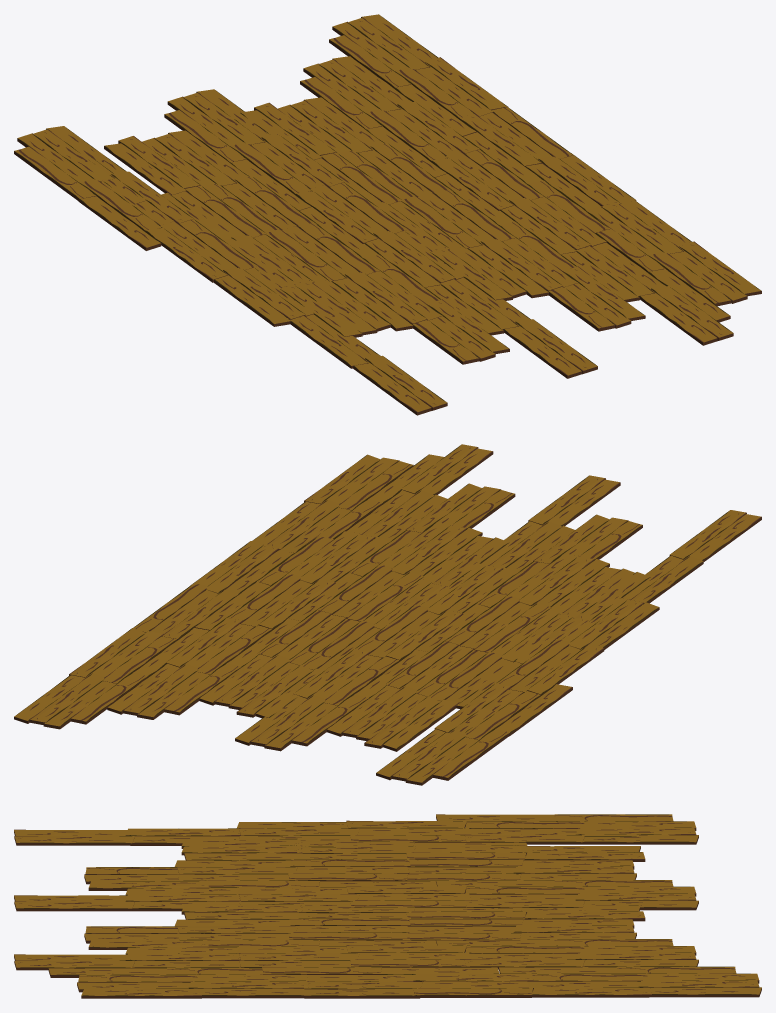
Rendered from Wood Boards.fbx.
3 views of the same model, one above another, from view 1: azimuth 30°, elevation 25°; view 2: azimuth 150°, elevation 25°; view 3: azimuth 270°, elevation 25° (orthographic). The views are drawn at different scales.
Visible parts, largest first — view 1: Plank 2.101, Plank 1.032, Plank 2.106, Plank 2.058, Plank 2.111, Plank 2.109, Plank 2.065, Plank 2.098, Plank 2.042, Plank 1.013, Plank 1.015, Plank 1.026 (+116 smaller); view 2: Plank 1.032, Plank 2.058, Plank 2.101, Plank 1.013, Plank 2.106, Plank 1.004, Plank 1.026, Plank 2.111, Plank 2.109, Plank 2.042, Plank 2.065, Plank 2.098 (+116 smaller); view 3: Plank 2.066, Plank 2.025, Plank 2.040, Plank 2.033, Plank 2.108, Plank 1.006, Plank 2.036, Plank 2.029, Plank 2.053, Plank 2.041, Plank 2.054, Plank 2.107 (+122 smaller).
Part boxes in pixels (left/top/right/bottom): Plank 2.101: left=78, top=196, right=161, bottom=250; Plank 1.032: left=14, top=146, right=96, bottom=200; Plank 2.106: left=145, top=228, right=227, bottom=282; Plank 2.058: left=104, top=143, right=186, bottom=195; Plank 2.111: left=287, top=315, right=368, bottom=368; Plank 2.109: left=353, top=362, right=431, bottom=415; Plank 2.065: left=503, top=325, right=582, bottom=378; Plank 2.098: left=214, top=271, right=290, bottom=326; Plank 2.042: left=639, top=292, right=717, bottom=345; Plank 1.013: left=329, top=35, right=411, bottom=87; Plank 1.015: left=648, top=251, right=731, bottom=306; Plank 1.026: left=164, top=110, right=247, bottom=162; Plank 1.032: left=433, top=728, right=509, bottom=780; Plank 2.058: left=383, top=699, right=459, bottom=751; Plank 2.101: left=496, top=684, right=572, bottom=736; Plank 1.013: left=70, top=672, right=147, bottom=724; Plank 2.106: left=527, top=645, right=604, bottom=695; Plank 1.004: left=164, top=663, right=241, bottom=715; Plank 1.026: left=291, top=694, right=368, bottom=746; Plank 2.111: left=630, top=556, right=703, bottom=604; Plank 2.109: left=688, top=514, right=761, bottom=561; Plank 2.042: left=419, top=448, right=493, bottom=495; Plank 2.065: left=546, top=479, right=620, bottom=526; Plank 2.098: left=582, top=602, right=659, bottom=649; Plank 2.066: left=14, top=901, right=134, bottom=911; Plank 2.025: left=531, top=987, right=652, bottom=997; Plank 2.040: left=81, top=988, right=201, bottom=998; Plank 2.033: left=641, top=987, right=761, bottom=997; Plank 2.108: left=14, top=836, right=134, bottom=845; Plank 1.006: left=413, top=988, right=532, bottom=997; Plank 2.036: left=191, top=988, right=305, bottom=998; Plank 2.029: left=303, top=989, right=420, bottom=998; Plank 2.053: left=524, top=911, right=645, bottom=921; Plank 2.041: left=14, top=960, right=134, bottom=970; Plank 2.054: left=524, top=852, right=645, bottom=861; Plank 2.107: left=464, top=834, right=584, bottom=844.
Bounding box in the file's own units: 730 × 7.11 × 1269.
